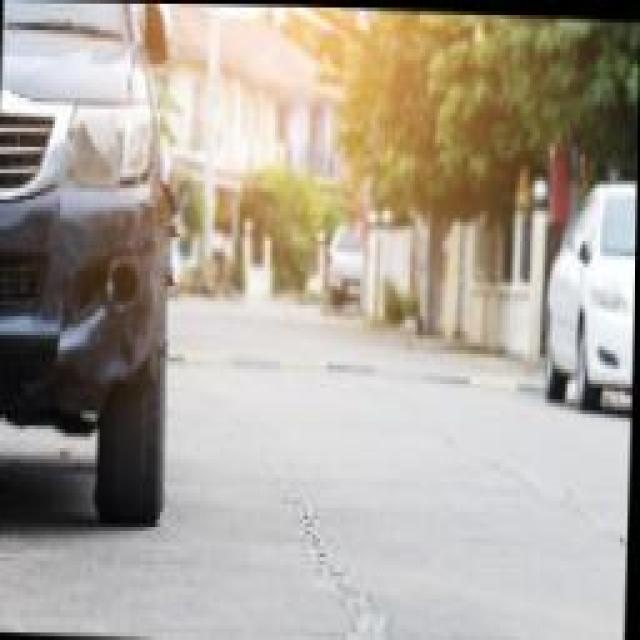Bumper: (58, 181, 176, 390)
